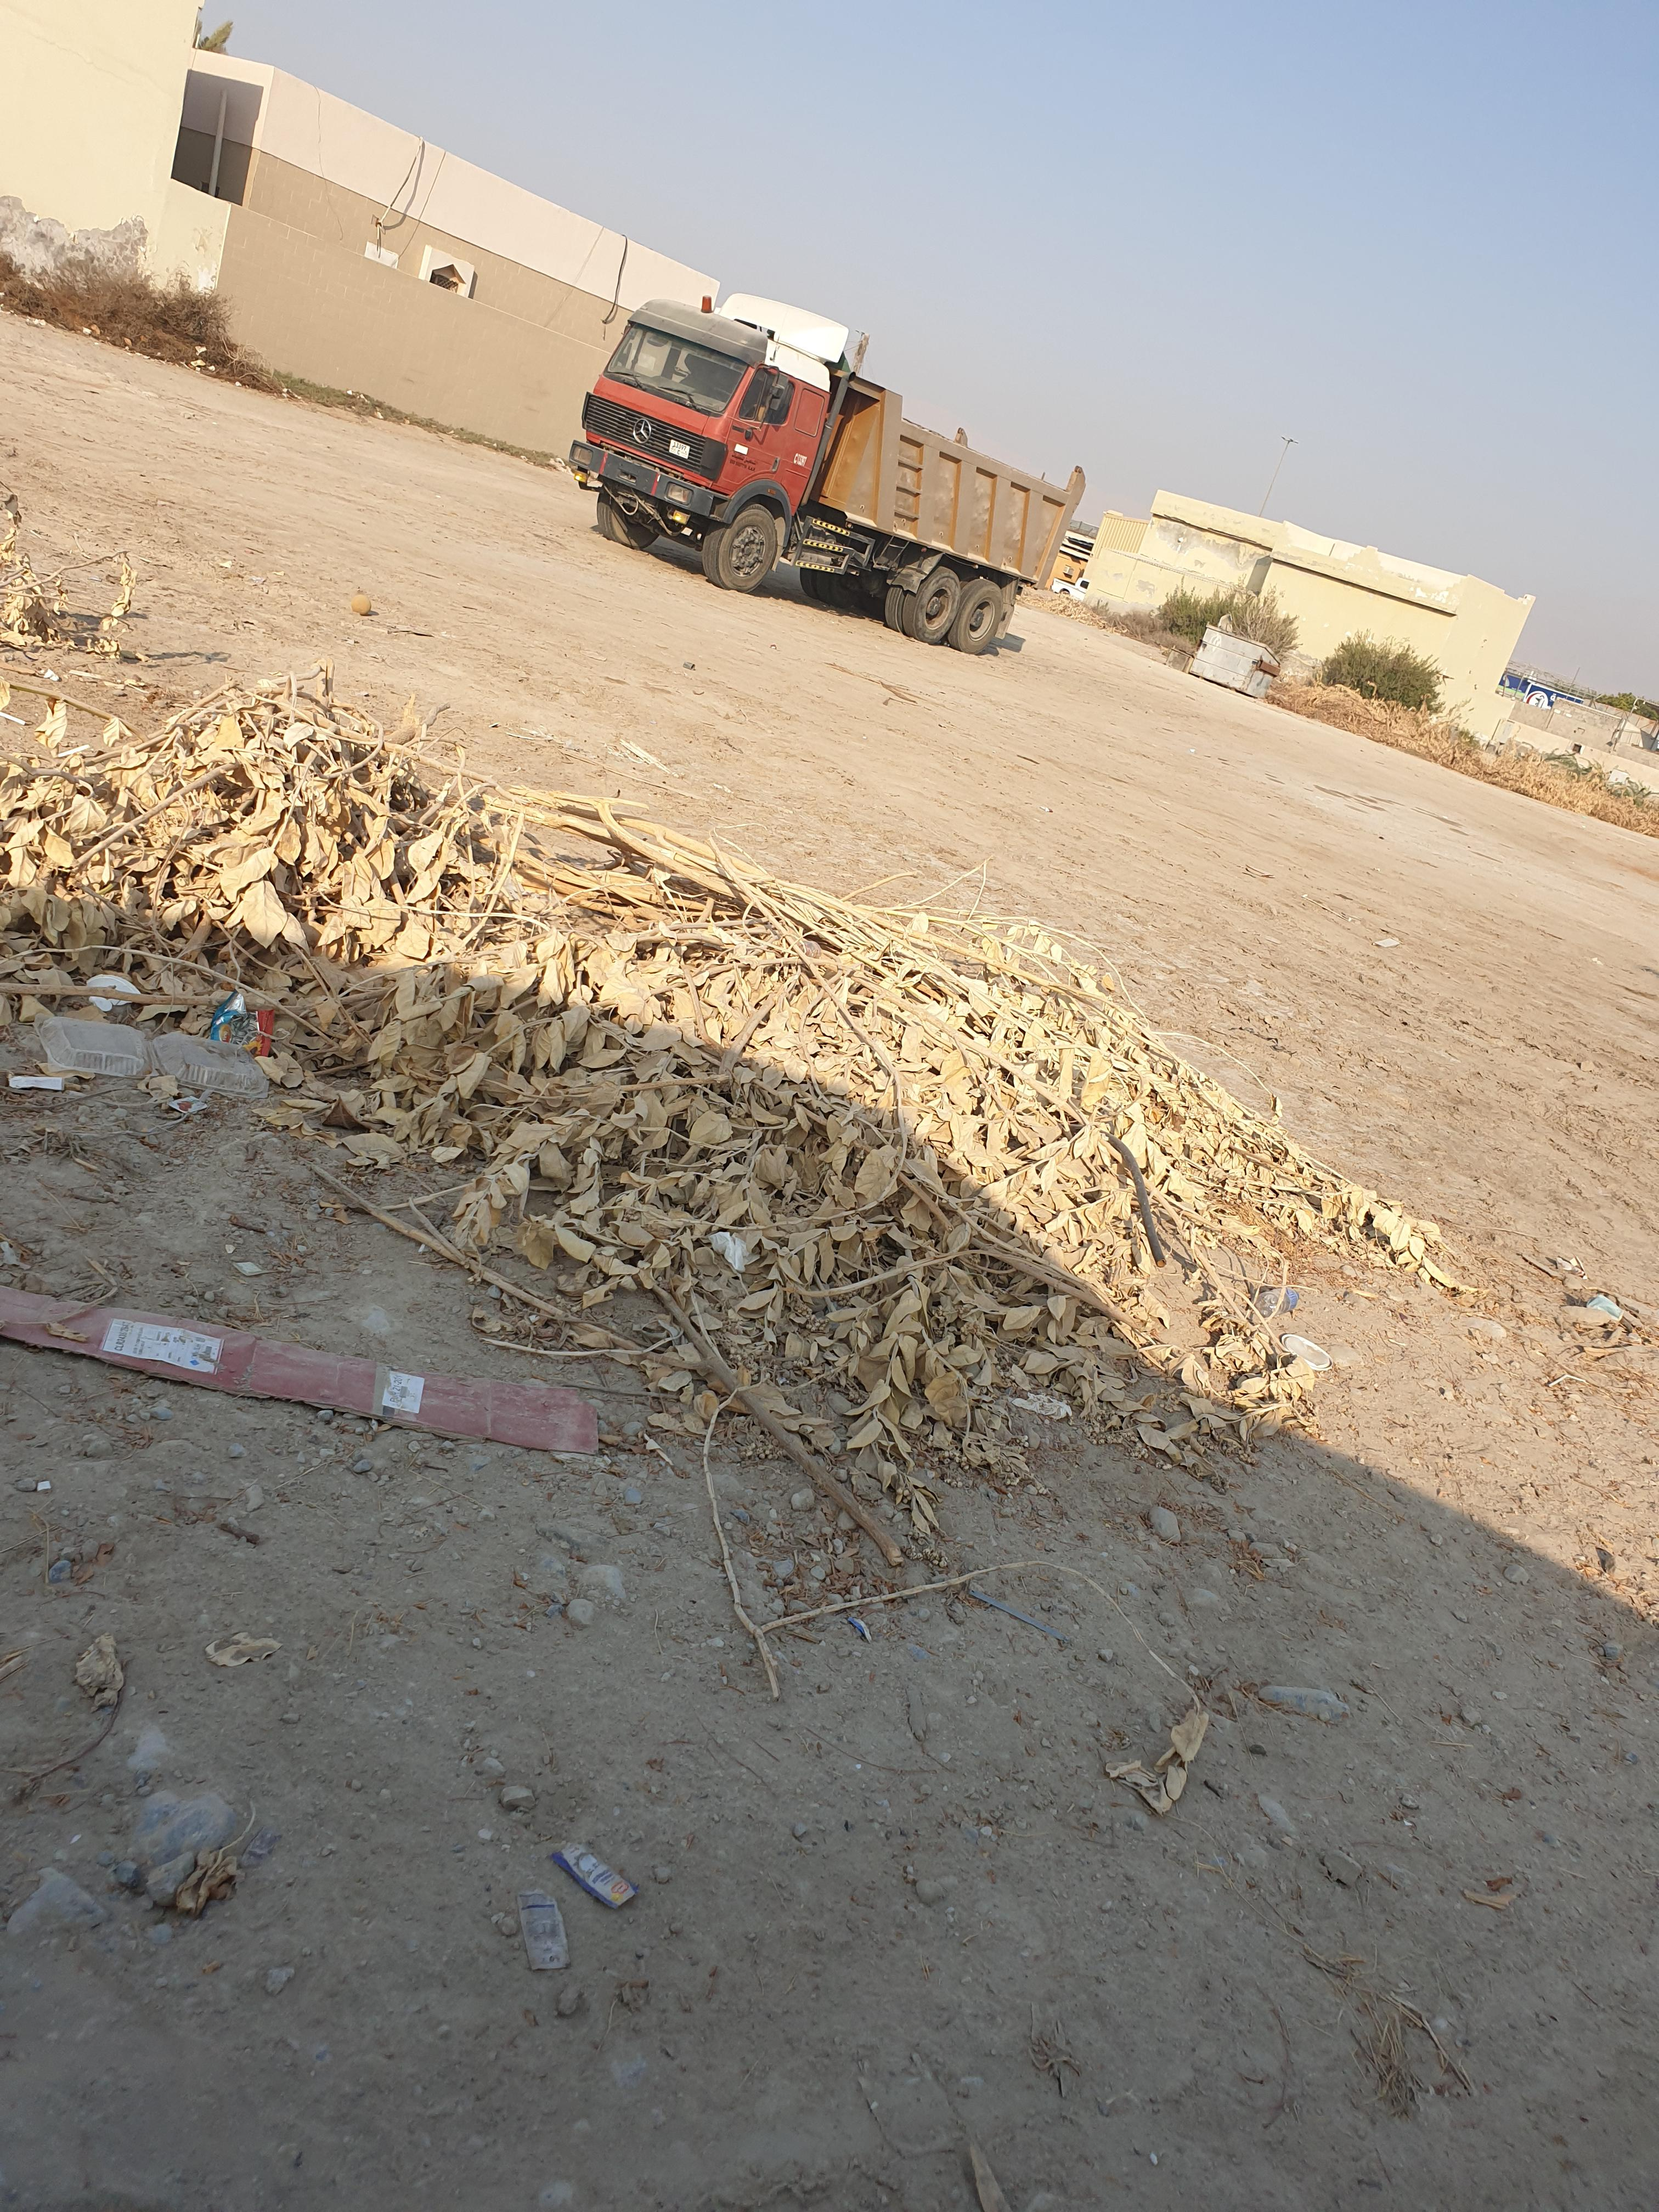fallen_trees: (758, 846, 1370, 1588), (488, 970, 1547, 1388), (347, 1108, 1103, 1693), (14, 503, 594, 1071), (401, 737, 955, 1310)
